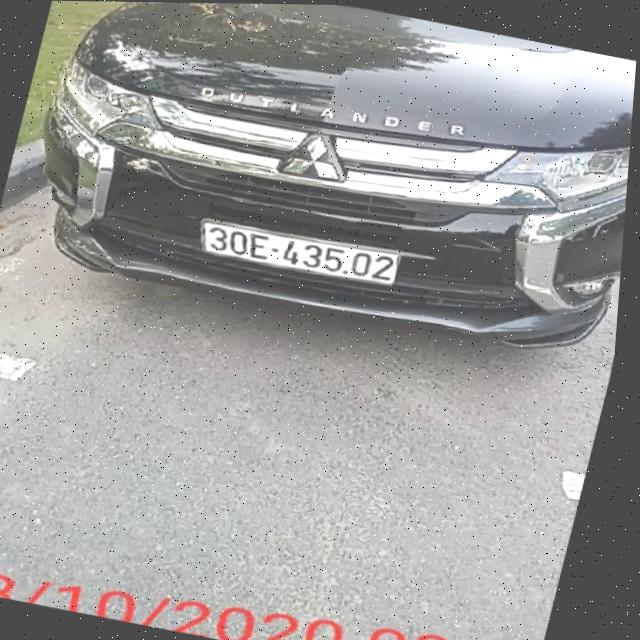car: (0, 0, 640, 376)
plate: (187, 210, 412, 300)
